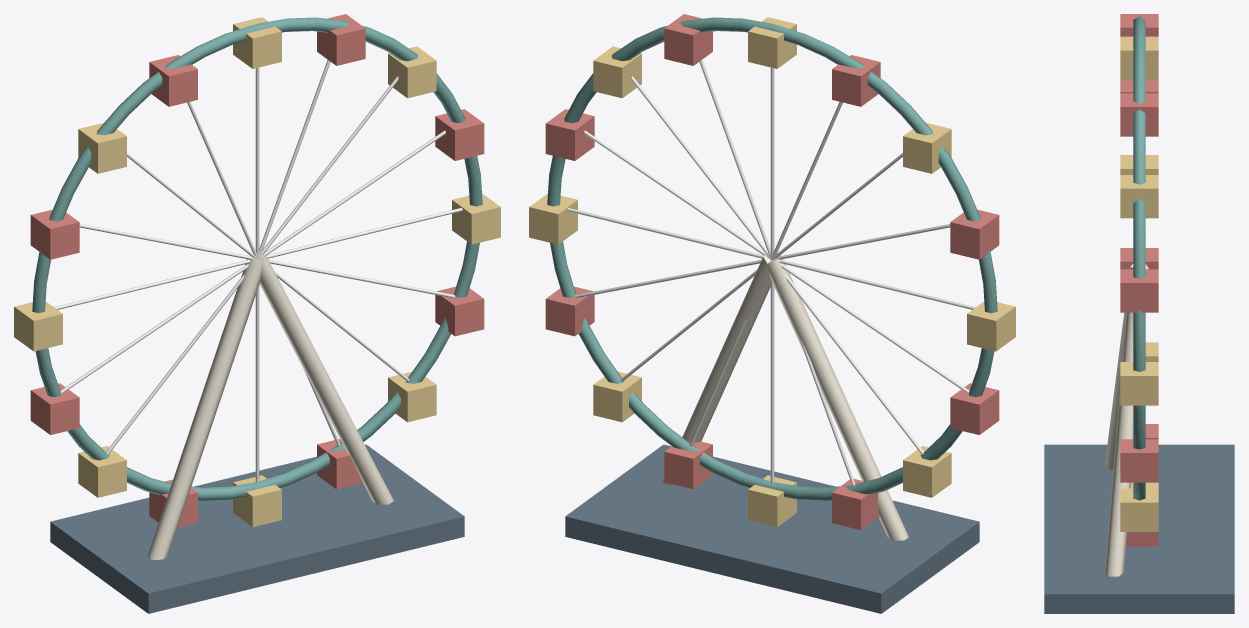
File: wheel.glb
The picture shows the model from 3 angles, left to right: view 1: azimuth 30°, elevation 25°; view 2: azimuth 150°, elevation 25°; view 3: azimuth 270°, elevation 25°; orthographic projection. The views are drawn at different scales.
Parts seen in each view (by area): view 1: wheel; view 2: wheel; view 3: wheel.
Boxes of the visible parts, bbox=[...] form: wheel: bbox=[14, 14, 500, 613]; wheel: bbox=[529, 14, 1015, 613]; wheel: bbox=[1044, 14, 1234, 613].
Bounding box in the file's own units: 19.2 × 20.4 × 7.
